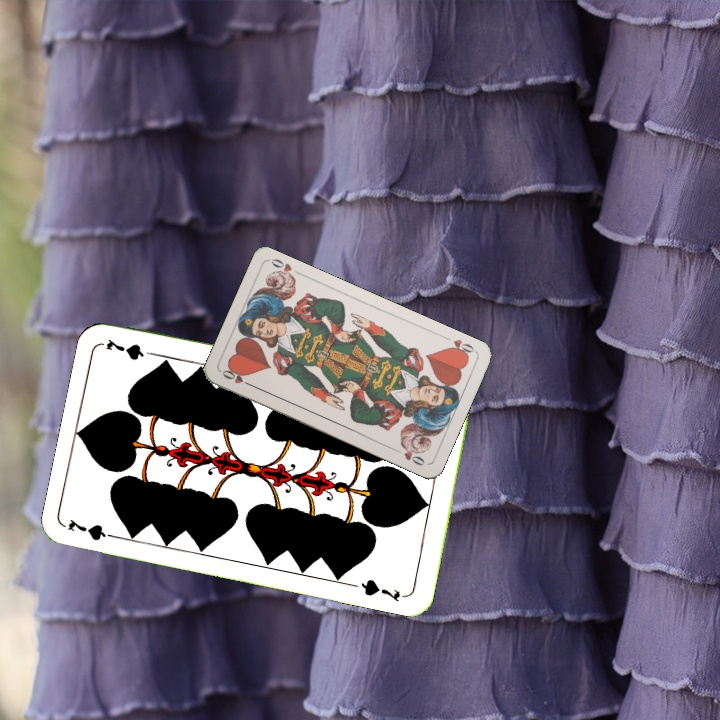G7: (64, 515, 123, 543)
HO: (218, 365, 256, 390), (443, 335, 477, 360)
